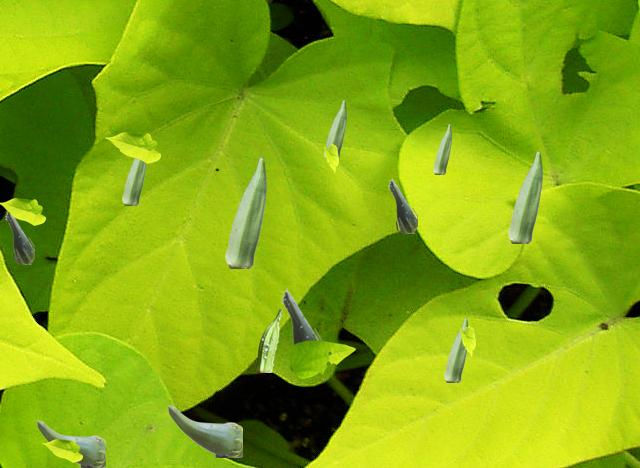okra: (225, 157, 265, 267), (167, 405, 241, 456), (36, 420, 104, 466), (508, 151, 541, 242), (281, 288, 321, 344), (256, 308, 281, 371), (388, 178, 416, 232), (5, 211, 33, 263), (444, 318, 467, 381), (324, 100, 345, 158), (122, 159, 145, 204), (433, 124, 450, 173)
